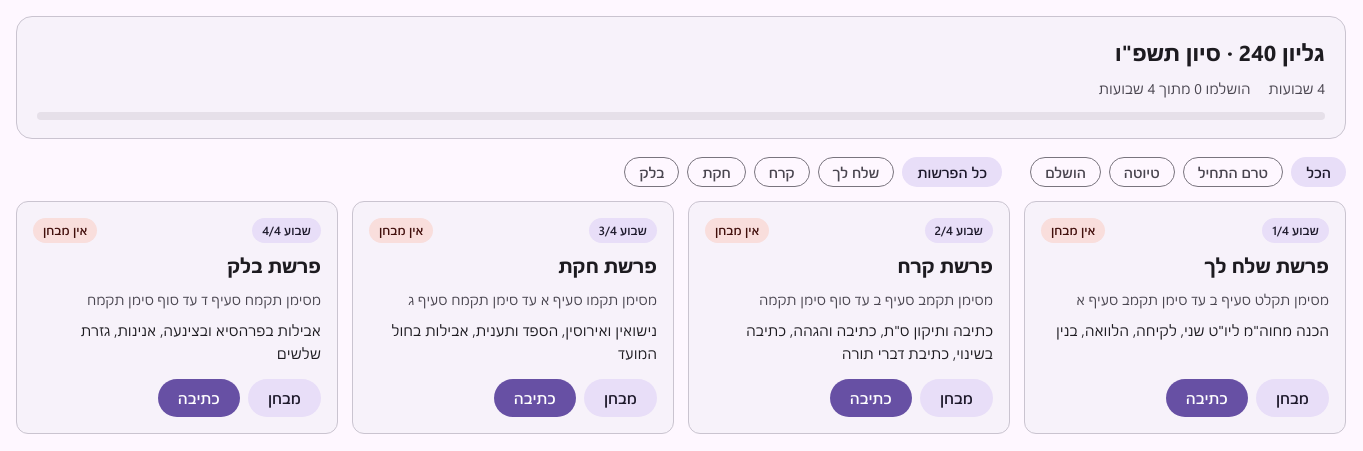
ScheduleScreen — סינון › "הכל" ו-"כל הפרשות" מחזירים את כל השבועות
Click the button "חקת" at (717, 172), box [687, 157, 746, 187]
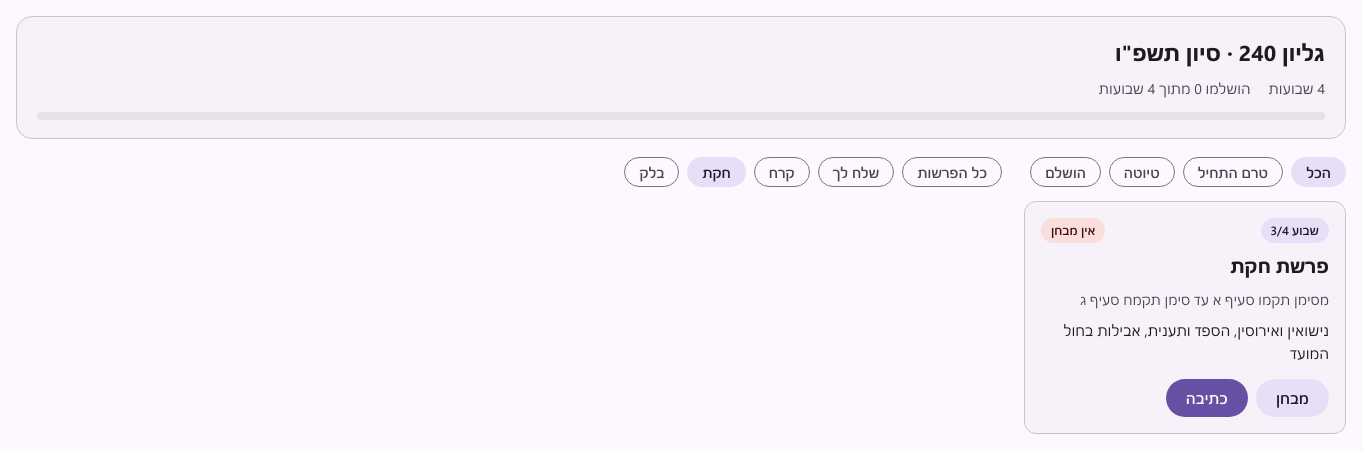
Click the button "כל הפרשות" at (952, 172), box [902, 157, 1002, 187]
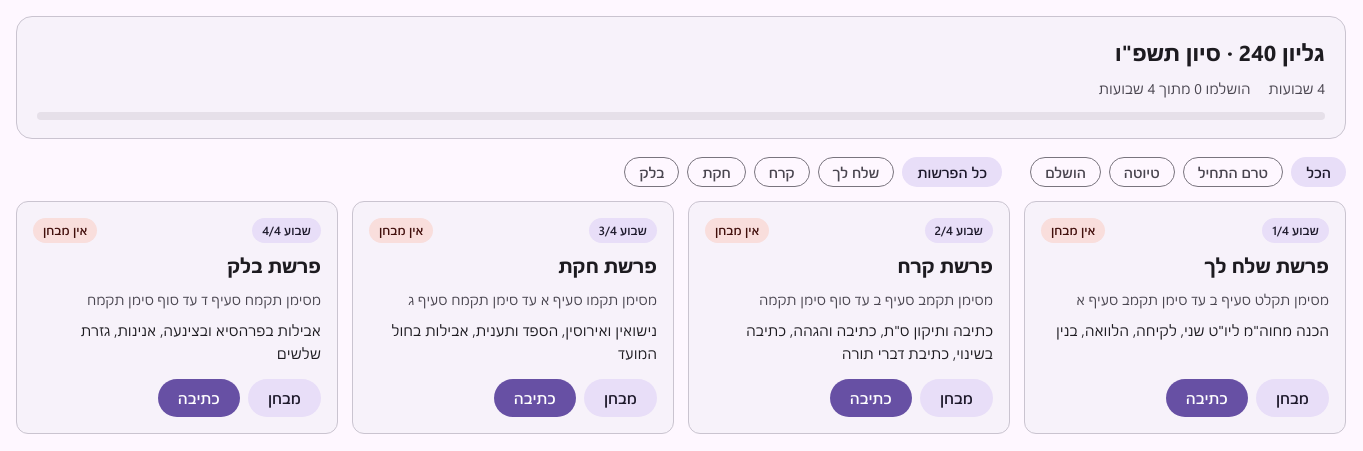
Expected: the number of elements with class "week-card" is 4, [1024, 201, 1346, 434]; [688, 201, 1010, 434]; [352, 201, 674, 434]; [16, 201, 338, 434]
